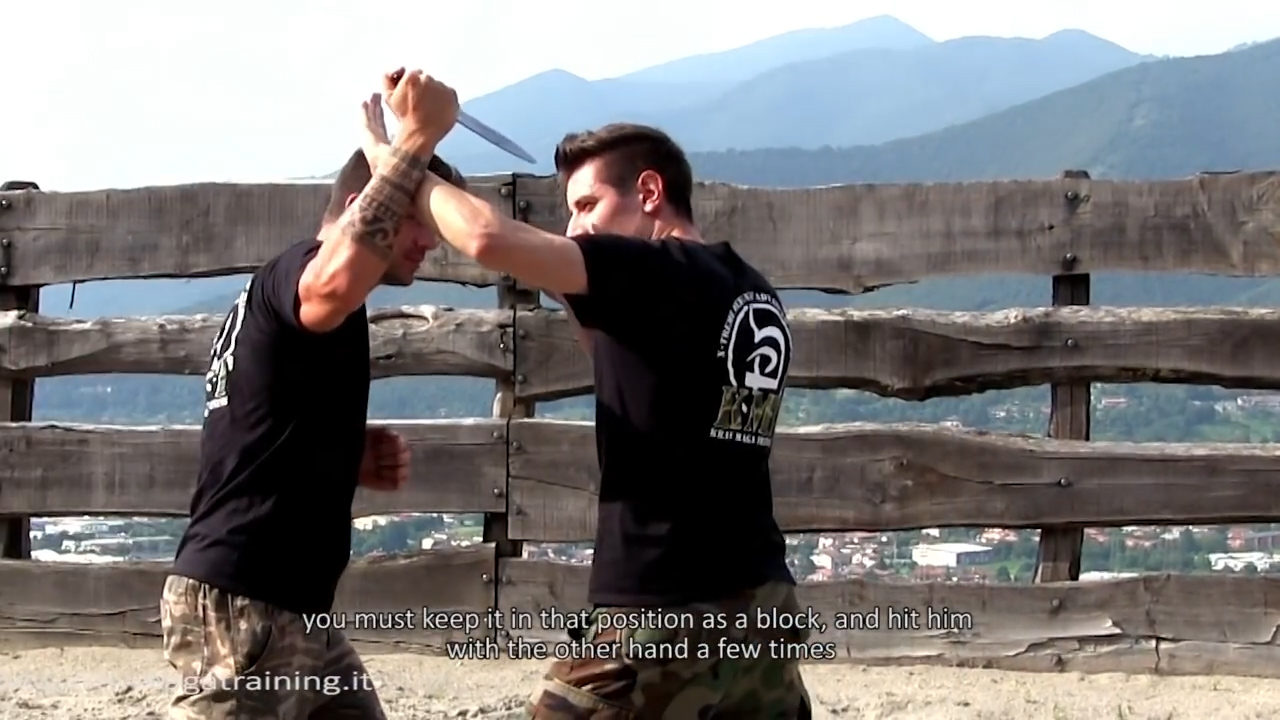knife: (380, 58, 542, 168)
